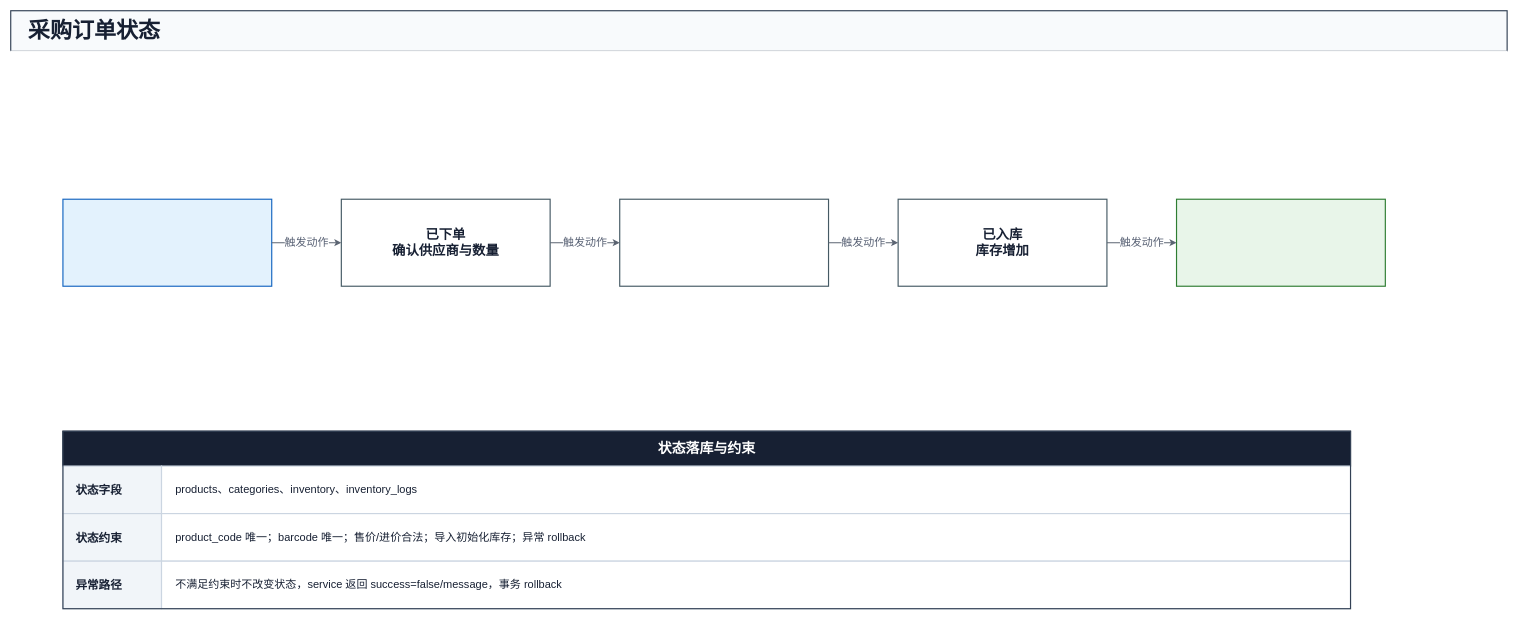
This 1517x619 diagram has some shape labels left out. The centre of each missing label's shape, as x and y in pixels:
已结算 应付账款 paid: pixel 1281 242
待采购 低库存预警生成建议: pixel 167 242
状态图｜状态、触发动作、持久化字段: pixel 758 62
部分到货 分批入库并记流水: pixel 724 242
